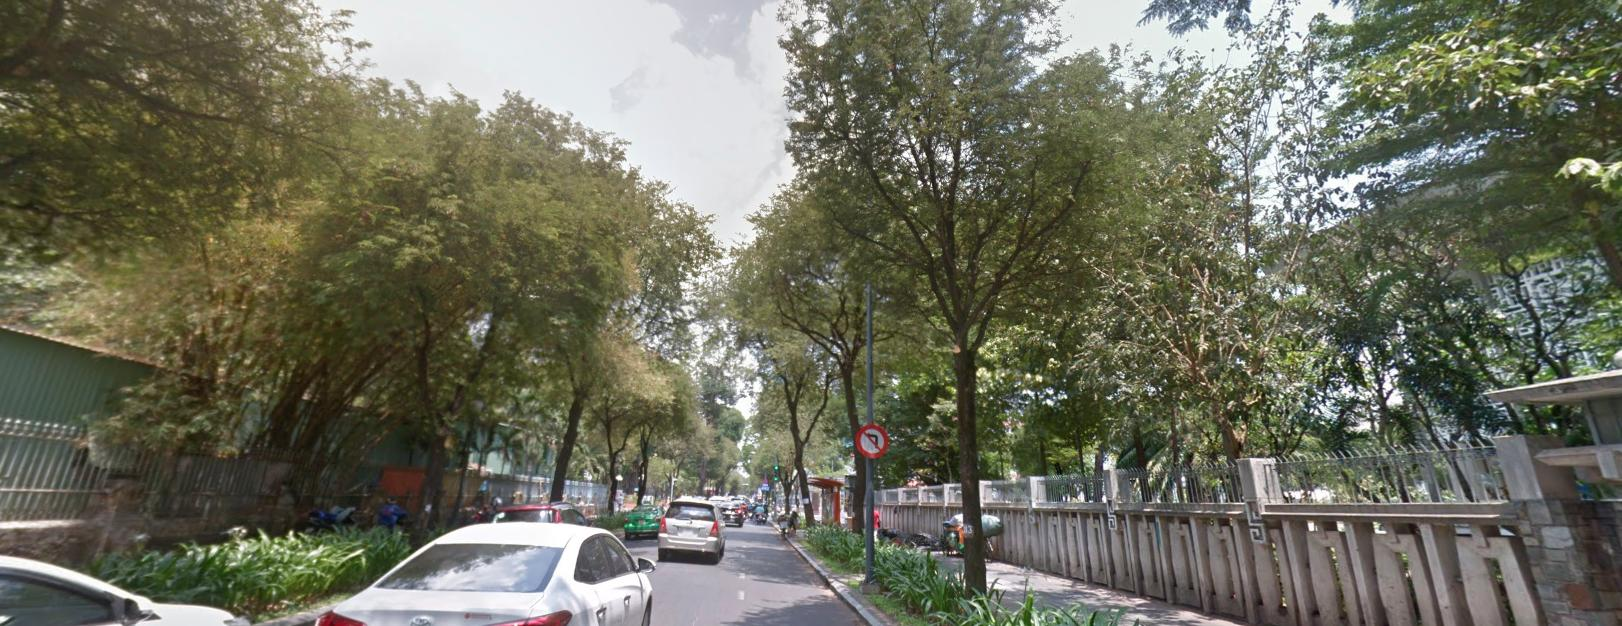Cam re: (854, 421, 891, 459)
